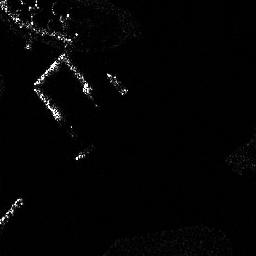ship: (1, 197, 25, 225), (105, 71, 129, 96)
